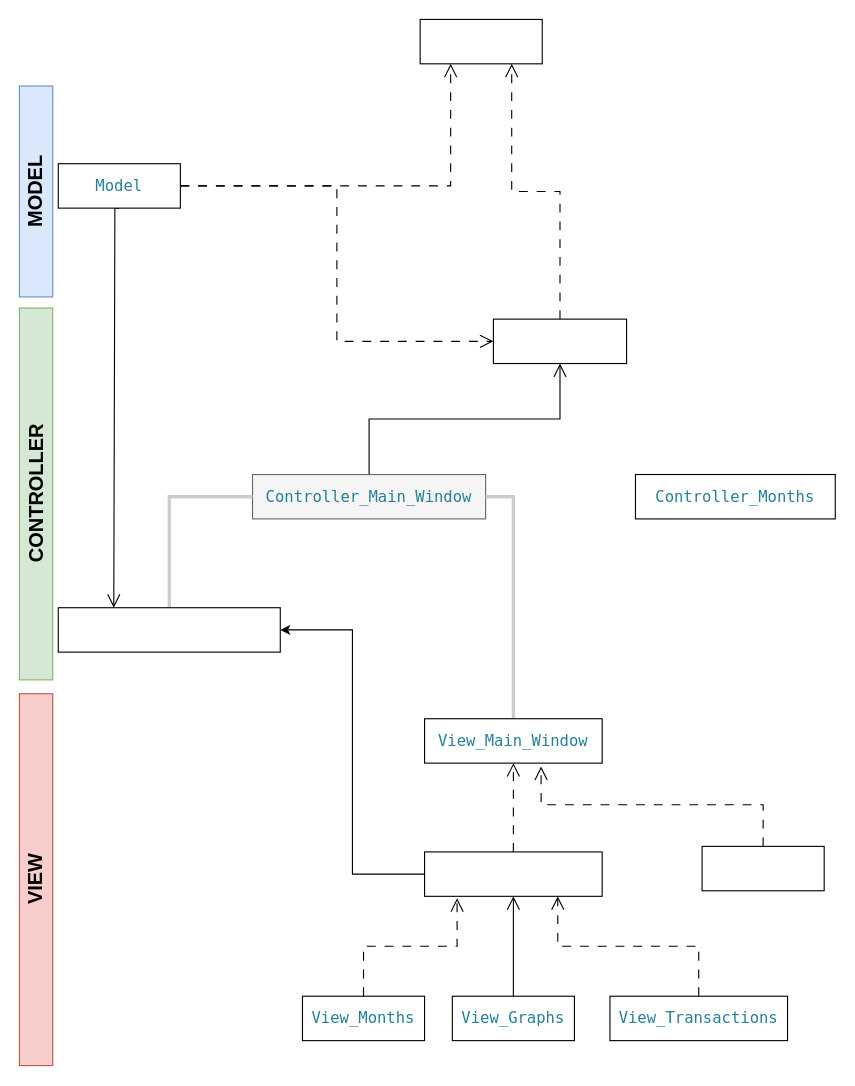
Some shapes in this 855 by 1086 pixel diagram are drawn without their labels. Each missing label, with the box of its shape:
Controller_Main_Frame: (57, 607, 280, 652)
Controllers: (492, 318, 627, 364)
Main: (419, 18, 542, 64)
Menu: (701, 845, 824, 891)
View_Main_Frame: (423, 851, 602, 896)
